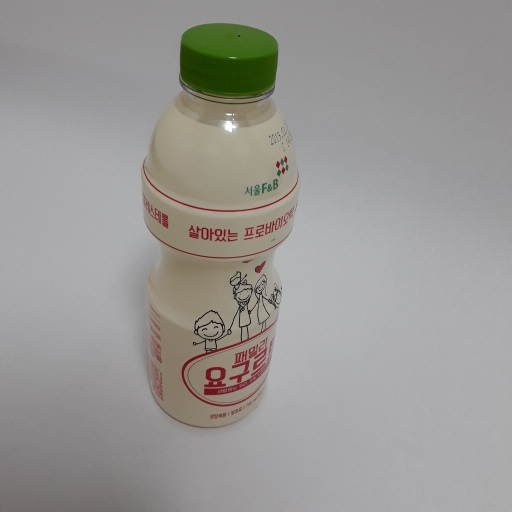Plastic_0: (141, 21, 302, 433)
